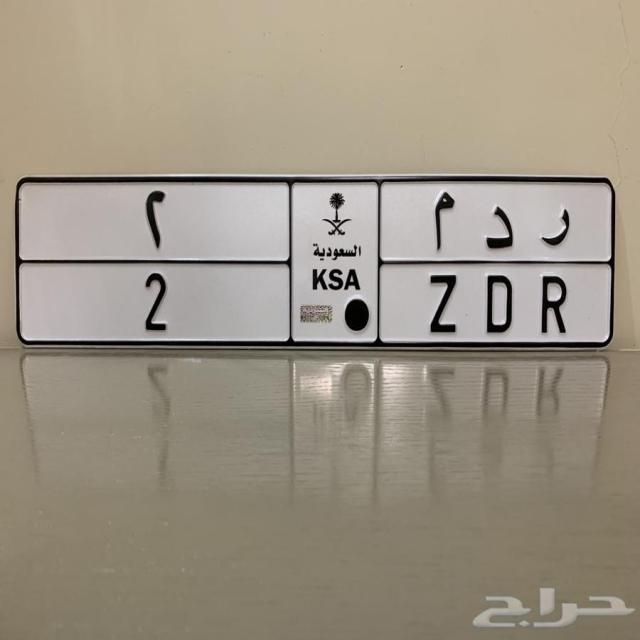license_plate: (15, 173, 622, 355), (16, 258, 611, 348)
